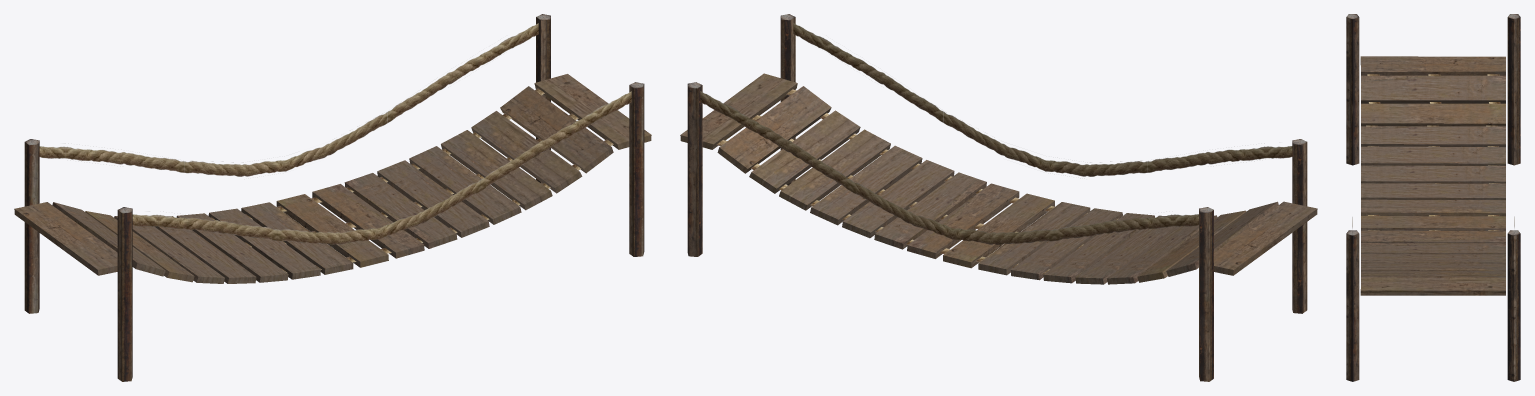
File: Bridge.glb
3 renders of one model, left to right at view 1: azimuth 30°, elevation 25°; view 2: azimuth 150°, elevation 25°; view 3: azimuth 270°, elevation 25°, orthographic. The views are drawn at different scales.
Visible parts, largest first — view 1: FloatingIsland.glb; view 2: FloatingIsland.glb; view 3: FloatingIsland.glb.
Part boxes in pixels (x1=…): FloatingIsland.glb: x1=14, y1=14, x2=651, y2=381; FloatingIsland.glb: x1=680, y1=14, x2=1317, y2=381; FloatingIsland.glb: x1=1346, y1=14, x2=1520, y2=381.
Bounding box in the file's own units: 6.87 × 2 × 2.16.
Materials: 1 (1 with a texture image).
